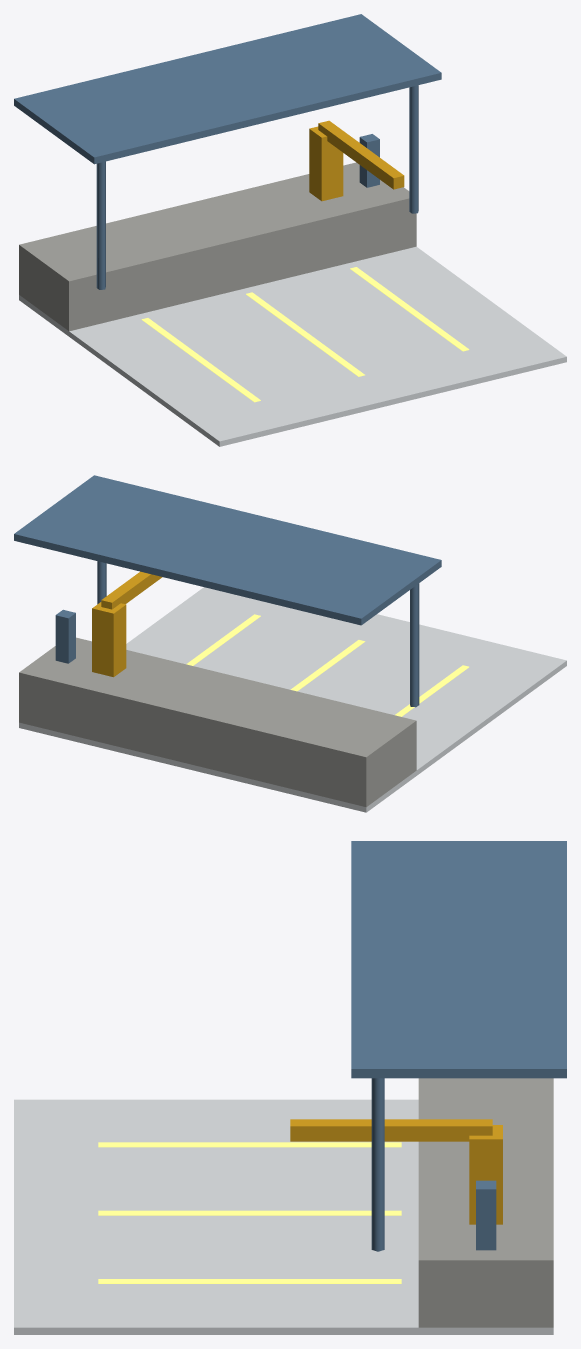
Rendered from road_industrial_x_loading_bay_lod1.glb.
The picture shows the model from 3 angles, top to bottom: view 1: azimuth 30°, elevation 25°; view 2: azimuth 150°, elevation 25°; view 3: azimuth 270°, elevation 25°; orthographic projection. The views are drawn at different scales.
Parts seen in each view (by area): view 1: body, arm; view 2: body, arm; view 3: body, arm.
Boxes of the visible parts, <box> form: body: <box>14,14,566,446</box>; arm: <box>309,120,404,201</box>; body: <box>14,475,566,812</box>; arm: <box>92,571,162,677</box>; body: <box>14,841,566,1334</box>; arm: <box>290,1119,502,1224</box>.
Bounding box in the file's own units: 8 × 4.35 × 8.2.
